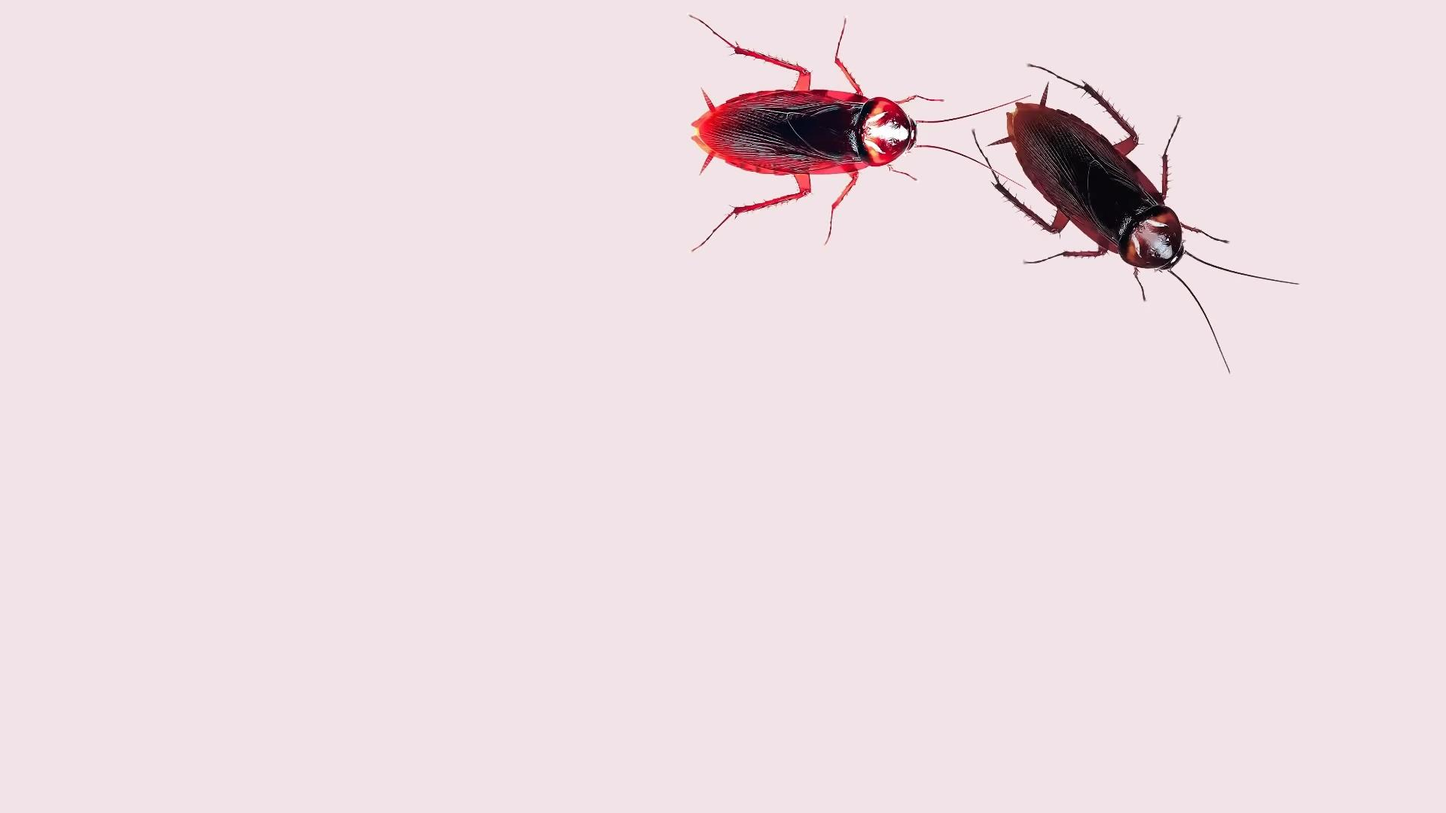cockroach: (977, 46, 1267, 367), (681, 18, 944, 260)
